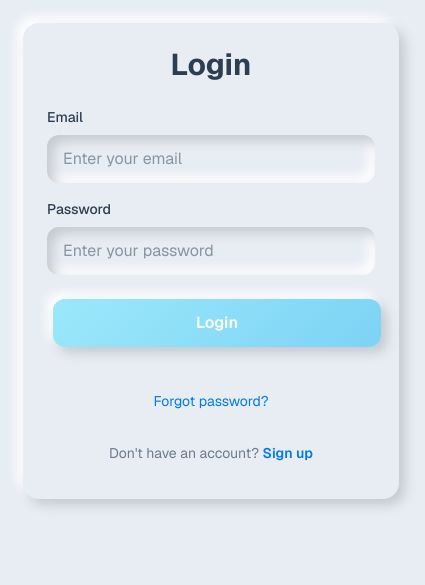
Test case: Login Component › should switch to signup mode when signup link is clicked
Click the button "Sign up". click: click(288, 453)
box: [262,431,313,475]
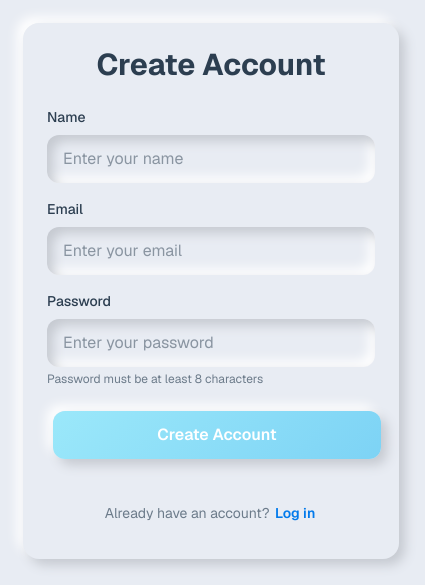
Now the heading "Create Account" is shown, box [96,45,326,84]
Now the field labelled "Name" is shown, box [47,135,375,183]
Now the button "Create Account" is shown, box [53,411,381,459]
